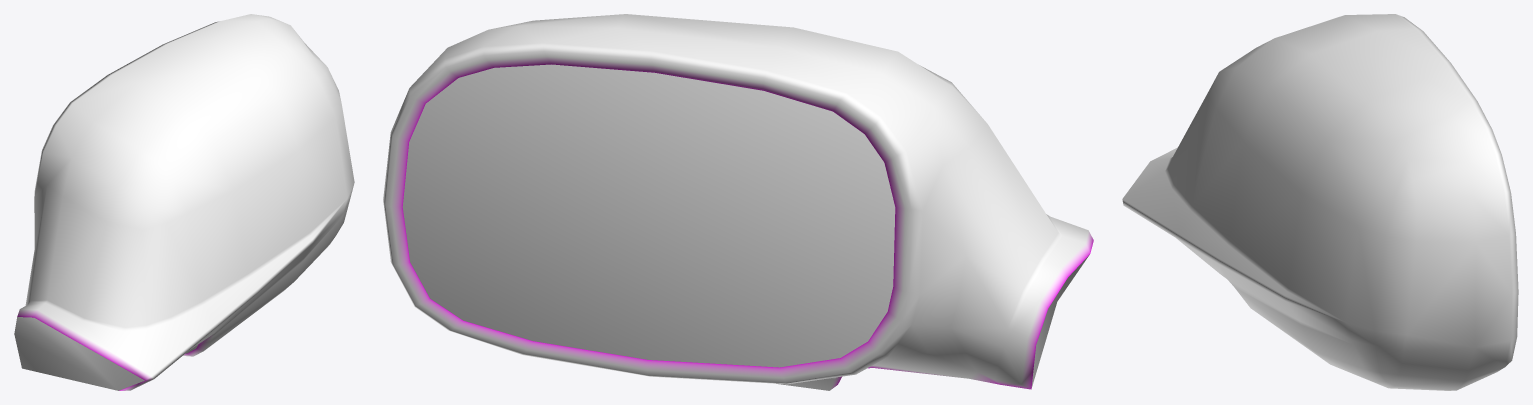
Rendered from Car_Nissan_SkylineGTRVspecR34_1999_MirrorL_SetA.fbx.
The picture shows the model from 3 angles, left to right: view 1: azimuth 30°, elevation 25°; view 2: azimuth 150°, elevation 25°; view 3: azimuth 270°, elevation 25°; orthographic projection. The views are drawn at different scales.
Visible parts, largest first — view 1: MirrorL 6; view 2: MirrorL 6; view 3: MirrorL 6.
Part boxes in pixels (x1,y1,x2,y2): MirrorL 6: (14, 14, 354, 390); MirrorL 6: (383, 14, 1093, 390); MirrorL 6: (1122, 14, 1518, 390).
Size of the model in its own units: 0.2076 by 0.1318 by 0.1602.
